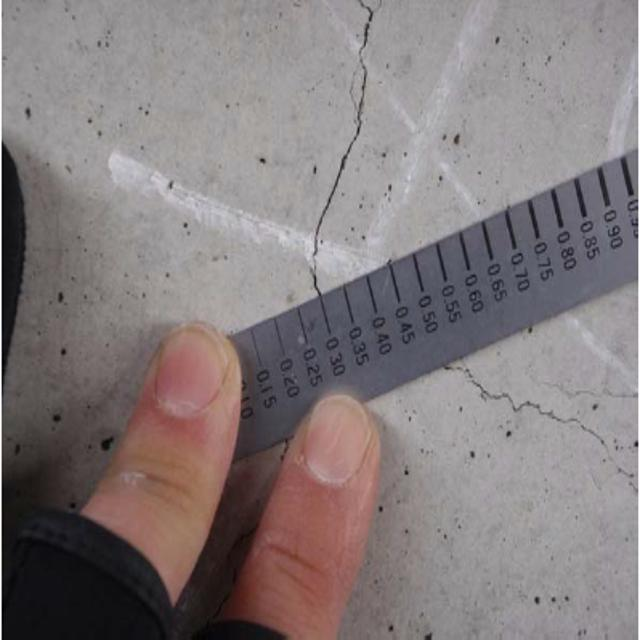crack: (453, 353, 640, 481), (303, 2, 376, 294)
